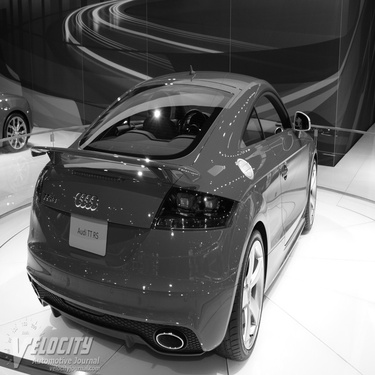car: (22, 63, 324, 369), (1, 85, 34, 158)
